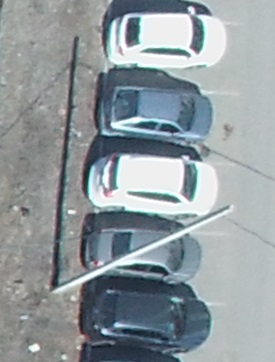opora: (48, 204, 234, 294)
